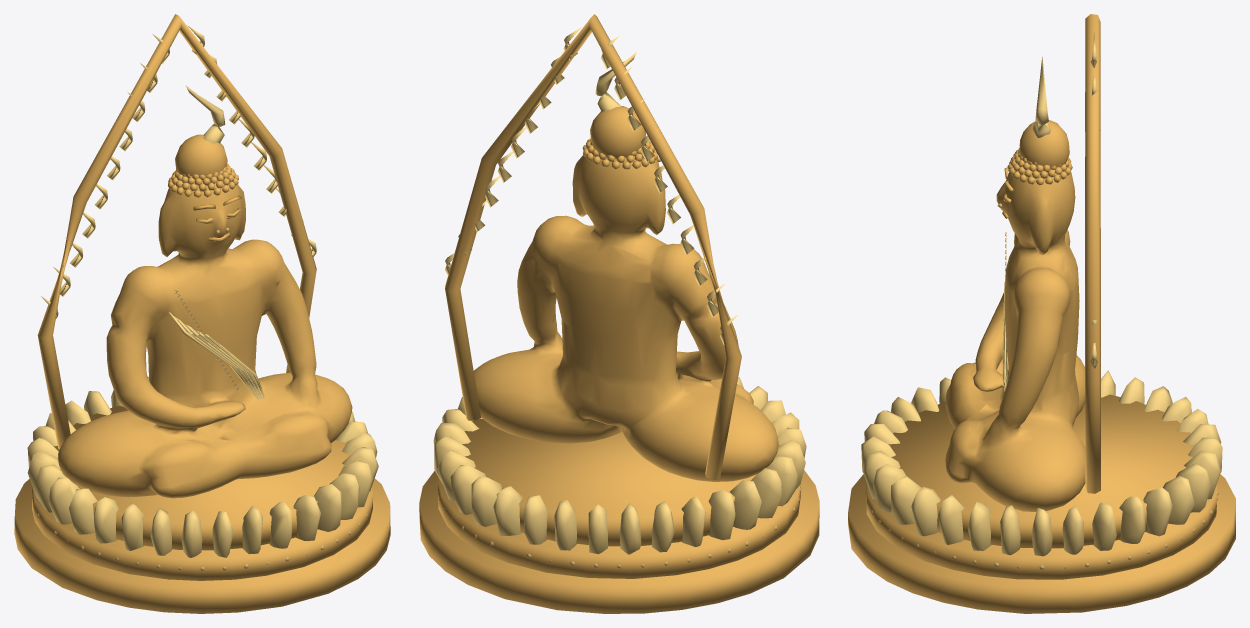
File: buddha-lod-refined.glb
3 renders of one model, left to right at view 1: azimuth 30°, elevation 25°; view 2: azimuth 150°, elevation 25°; view 3: azimuth 270°, elevation 25°, orthographic. The views are drawn at different scales.
Parts seen in each view (by area): view 1: buddha LOD / Antique warm gold, buddha LOD / Raised gold ornament; view 2: buddha LOD / Antique warm gold, buddha LOD / Raised gold ornament; view 3: buddha LOD / Antique warm gold, buddha LOD / Raised gold ornament.
Part boxes in pixels (x1,y1,x2,y2): buddha LOD / Antique warm gold: (14, 14, 390, 613); buddha LOD / Raised gold ornament: (27, 25, 378, 557); buddha LOD / Antique warm gold: (419, 14, 819, 613); buddha LOD / Raised gold ornament: (433, 27, 806, 554); buddha LOD / Antique warm gold: (848, 14, 1235, 613); buddha LOD / Raised gold ornament: (861, 32, 1222, 556).
Bounding box in the file's own units: 3.2 × 4.71 × 3.2.
